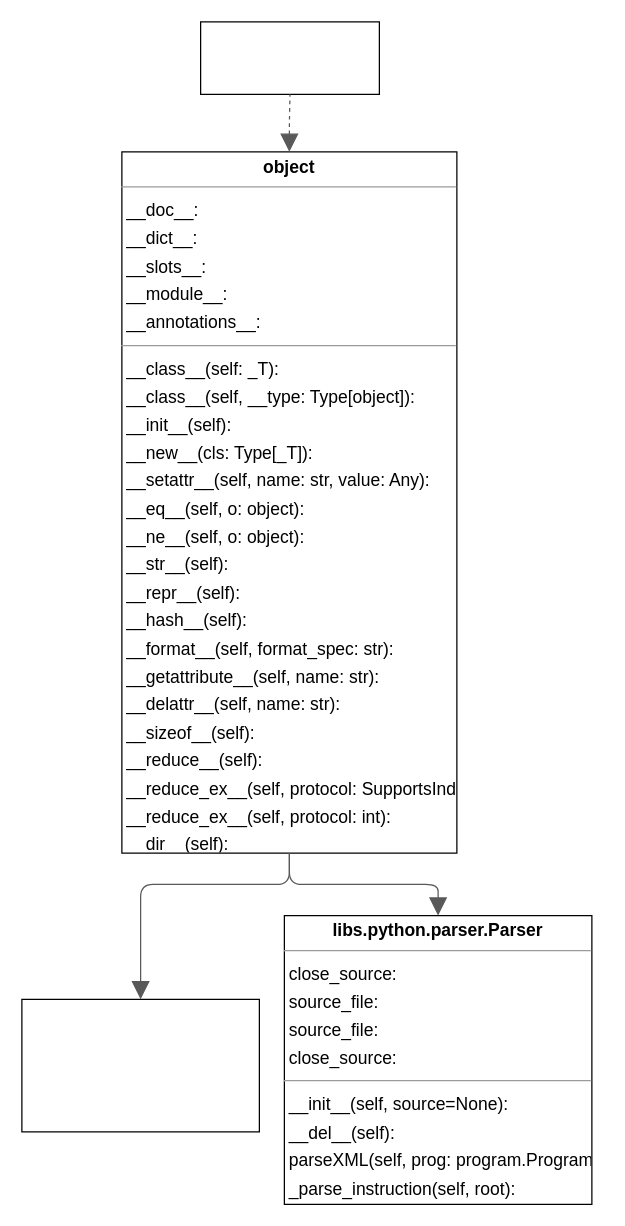
This 625x1226 diagram has some shape labels left out. Here are the shapes that lost their labels. From the top down, the centre of each, then its label:
At point (289, 57): "typing.Hashable __hash__(self):".
At point (140, 1065): "libs.python.parser._XML _XML.Elem: _XML.Attr: _XML.AttrValue:".
